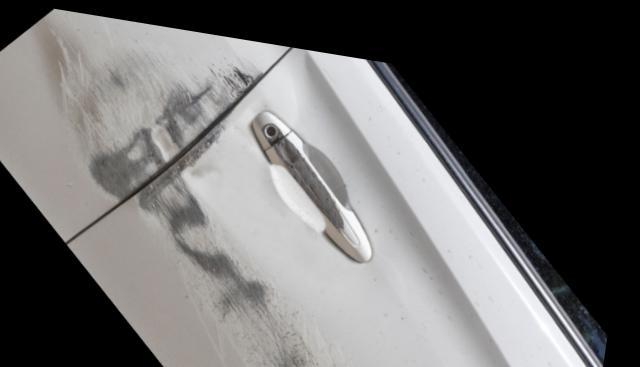scratch: (137, 103, 375, 367), (52, 10, 266, 199), (277, 126, 350, 219)
